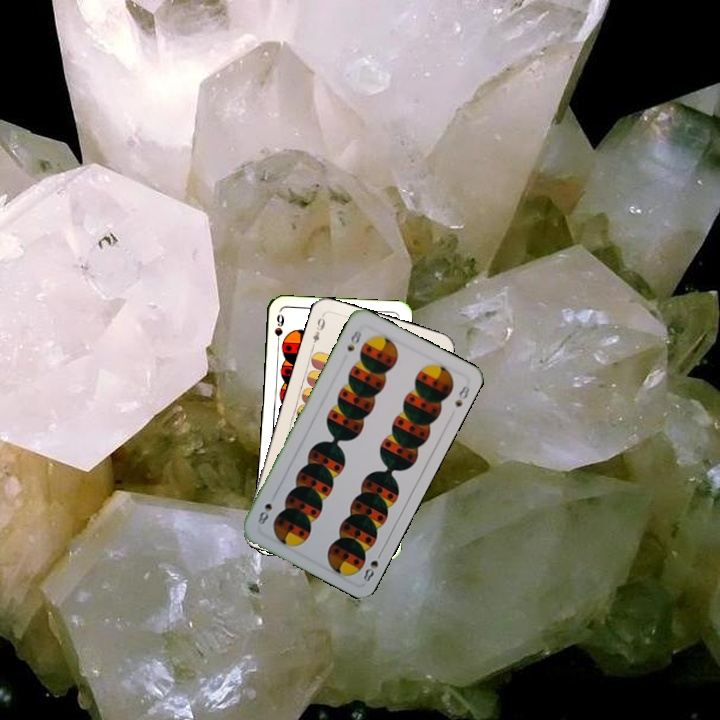E9: (308, 311, 328, 351)
S8: (359, 547, 385, 584), (343, 326, 364, 354)
S9: (271, 310, 287, 350)
